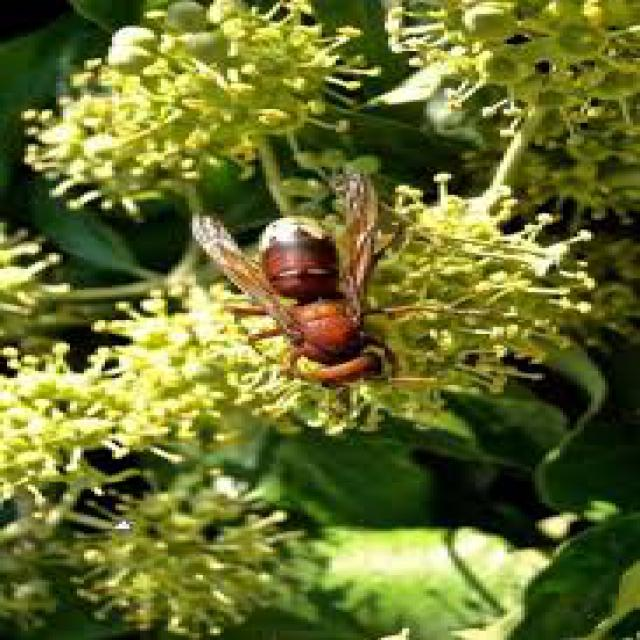Vespa Orientalis: (147, 155, 522, 407)
